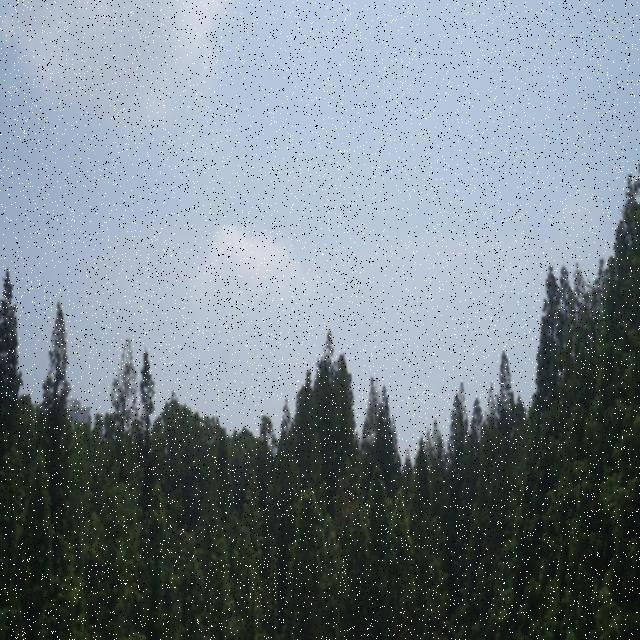UAV: (364, 429, 378, 445)
